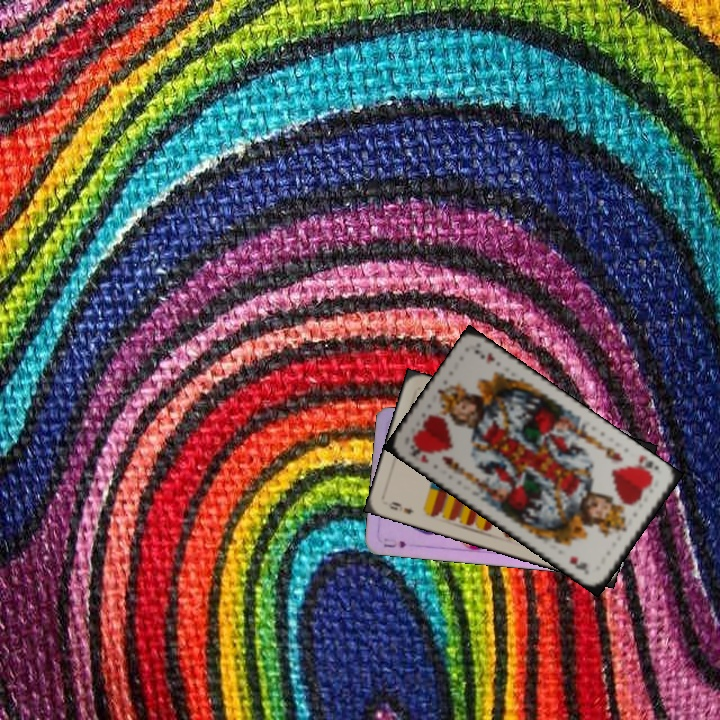E9: (386, 498, 416, 517)
HK: (634, 451, 661, 481), (404, 442, 432, 466)
SU: (379, 536, 409, 551)
